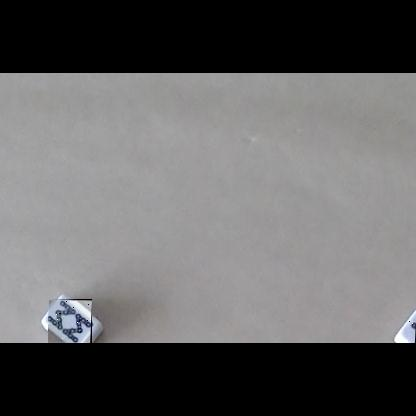2s: (408, 320, 416, 343)
8s: (48, 299, 92, 343)
